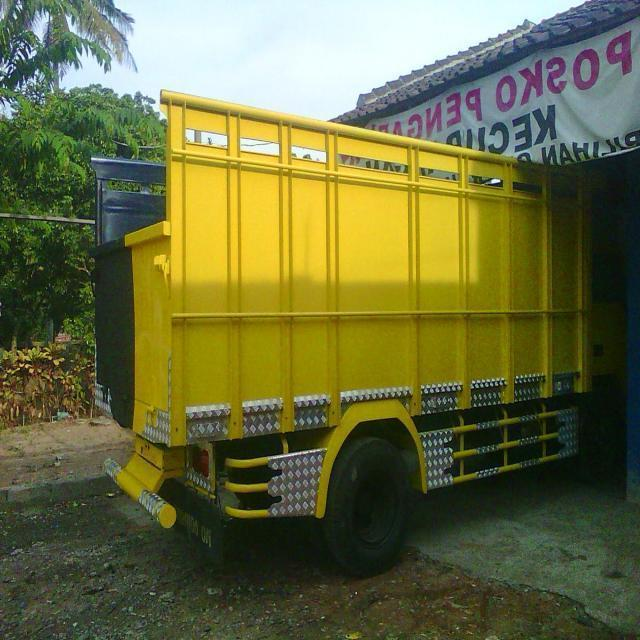Truck: (92, 90, 638, 574)
